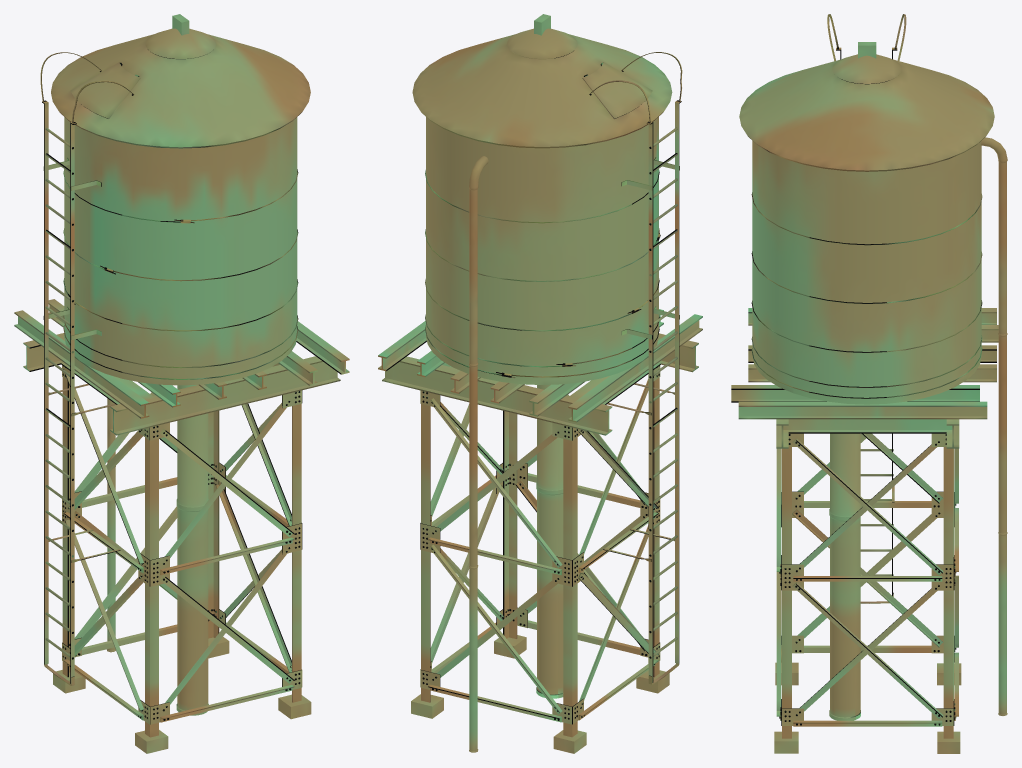
3 views of the same model, side by side, from view 1: azimuth 30°, elevation 25°; view 2: azimuth 150°, elevation 25°; view 3: azimuth 270°, elevation 25° (orthographic).
Visible parts, largest first — view 1: %t1%_Baked; view 2: %t1%_Baked; view 3: %t1%_Baked.
Part boxes in pixels (x1,y1,x2,y2): %t1%_Baked: [14, 14, 349, 753]; %t1%_Baked: [378, 14, 702, 753]; %t1%_Baked: [731, 14, 1007, 753].
Size of the model in its own units: 33.46 by 92.04 by 34.36.
Materials: 1 (1 with a texture image).
